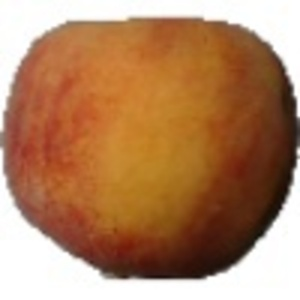pêssego: (1, 14, 300, 283)
